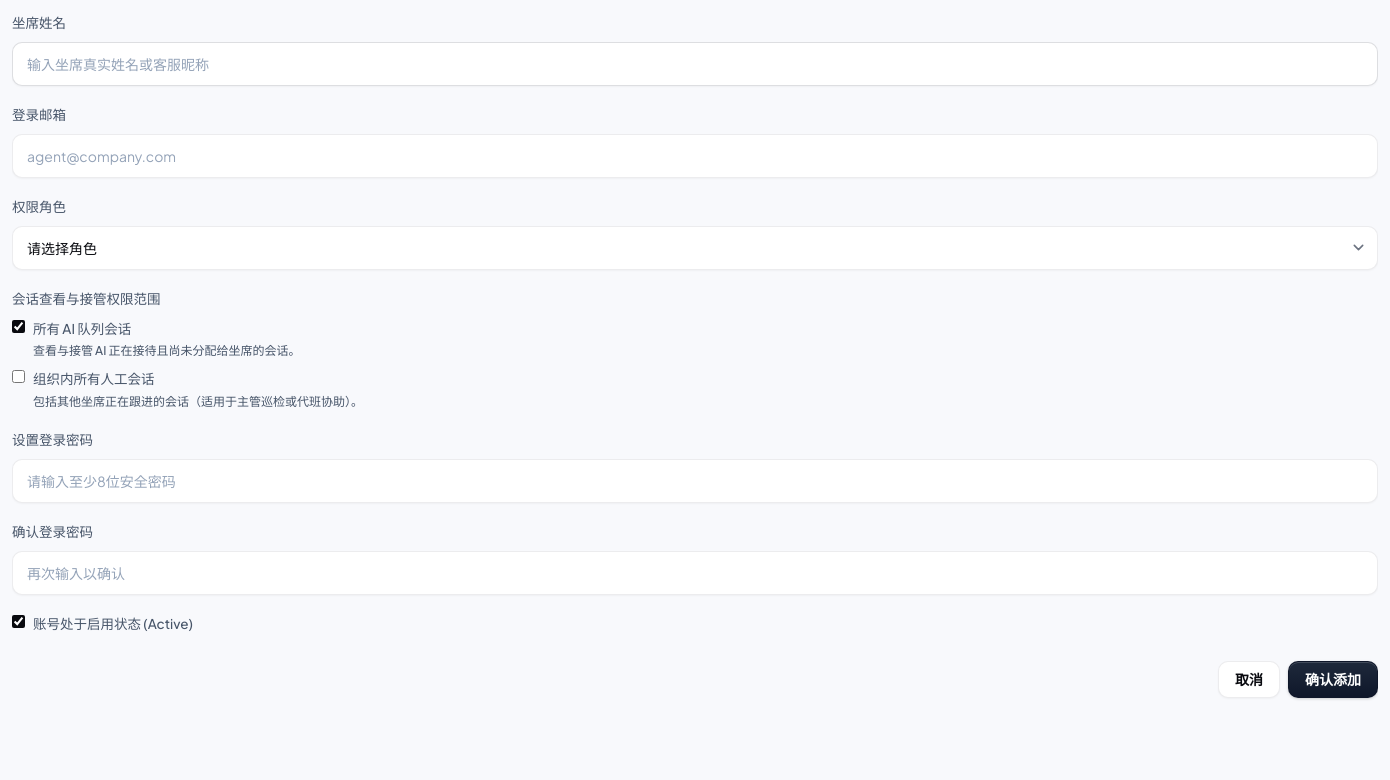
Test case: UserForm – chat scope toggles › unticks both for a role that grants nothing
Select "Agent" in the dropdown with id "role": (695, 248) [12,226,1378,270]
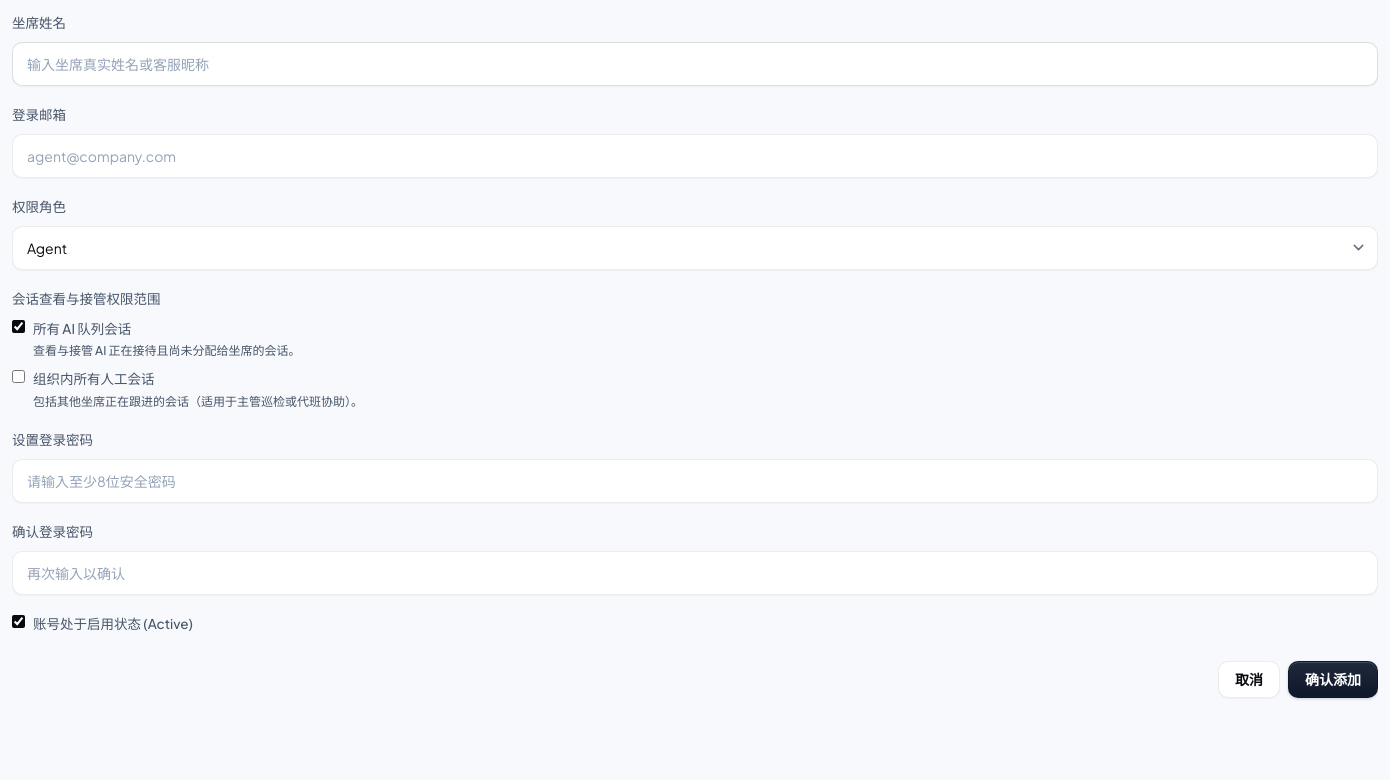
Expected: the checkbox labelled "所有 AI 队列会话 查看与接管 AI 正在接待且尚未分配给坐席的会话。" is checked, [12,320,25,332]
Select "Empty" in the dropdown with id "role": (695, 248) [12,226,1378,270]
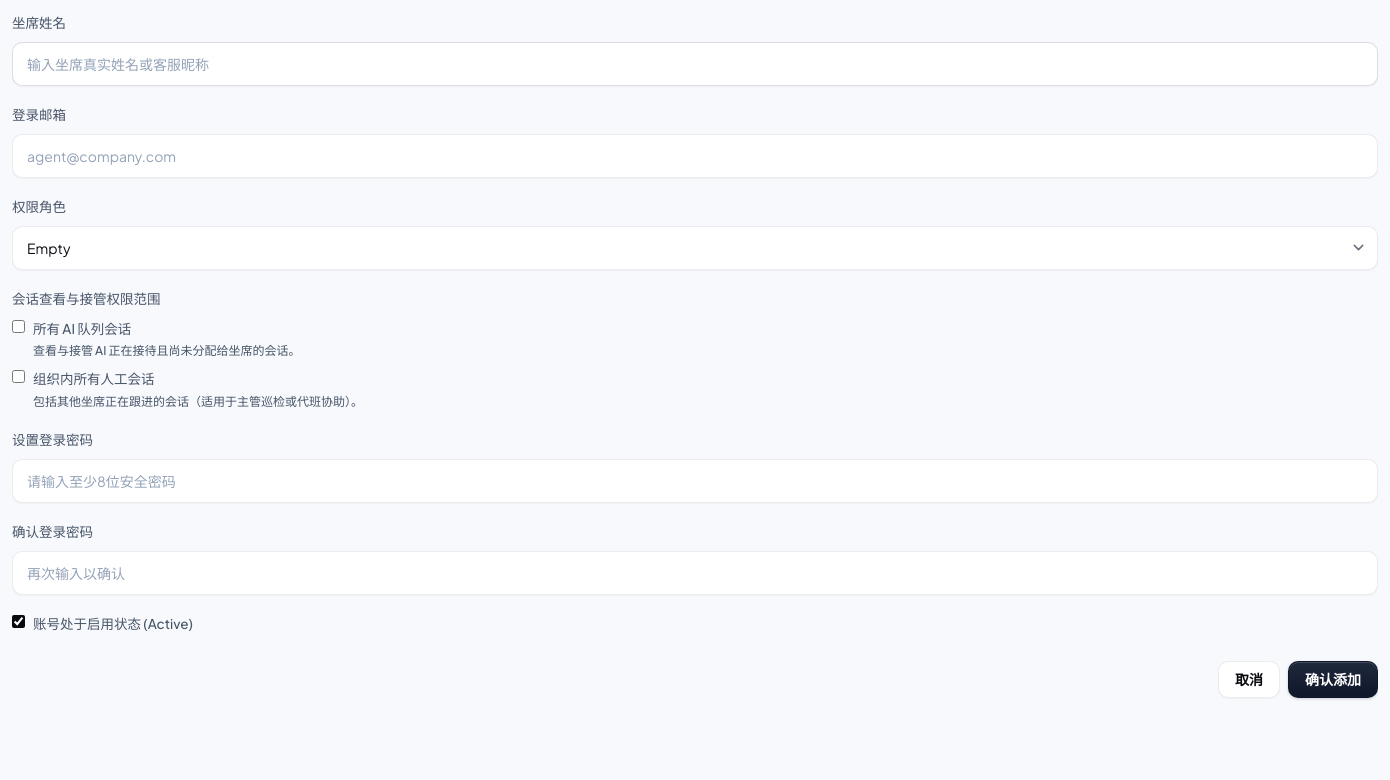
Expected: the checkbox labelled "组织内所有人工会话 包括其他坐席正在跟进的会话（适用于主管巡检或代班协助）。" is not checked, [12,370,25,383]
Result: the checkbox labelled "所有 AI 队列会话 查看与接管 AI 正在接待且尚未分配给坐席的会话。" is not checked at [12,320,25,332]
